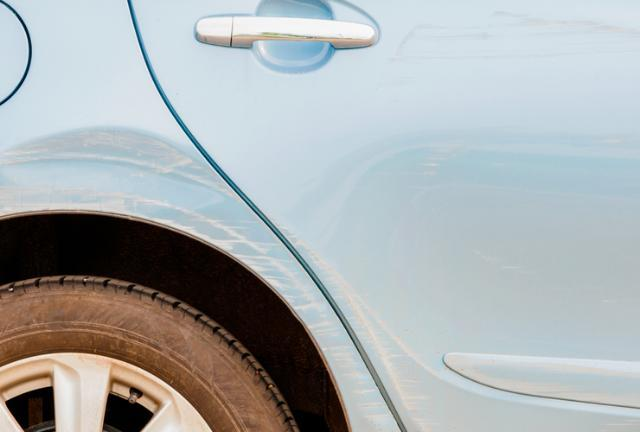Fender: (0, 110, 486, 432)
